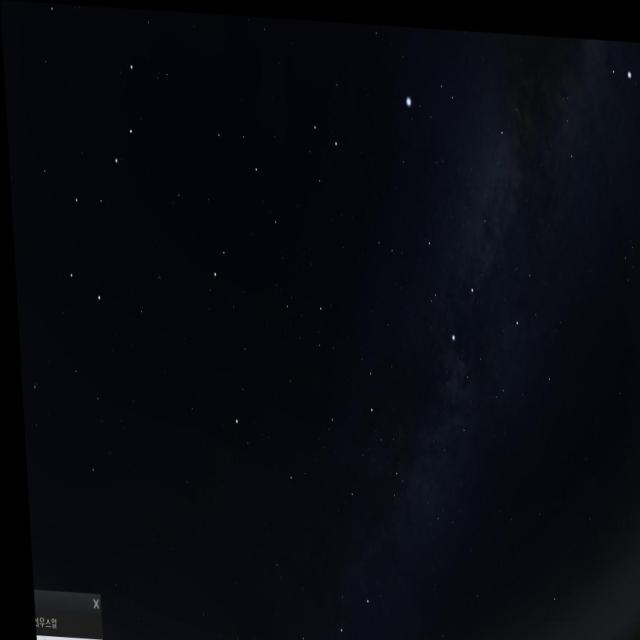cygnus: (405, 125, 525, 343)
lyra: (404, 71, 466, 137)
ursa_major: (44, 48, 152, 306)
